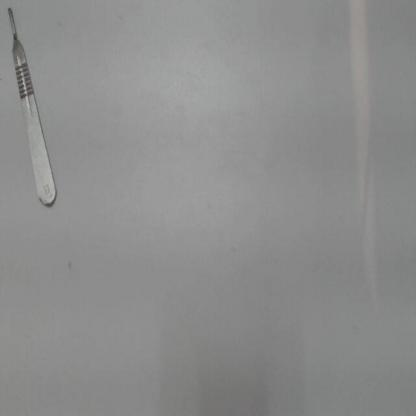No.3 BP Handle: (3, 5, 64, 217)
